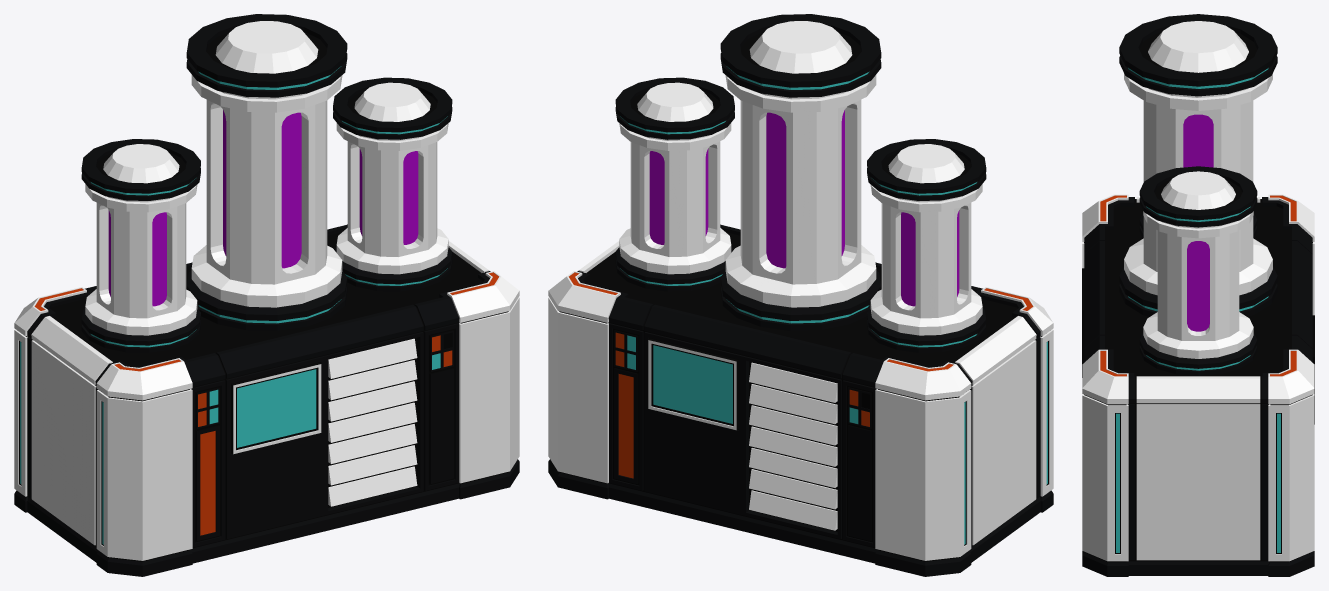
The model's file is SM_Fusion_T1.obj.
3 views of the same model, side by side, from view 1: azimuth 30°, elevation 25°; view 2: azimuth 150°, elevation 25°; view 3: azimuth 270°, elevation 25° (orthographic). The views are drawn at different scales.
Visible parts, largest first — view 1: SM_Fusion_T1; view 2: SM_Fusion_T1; view 3: SM_Fusion_T1.
Boxes of the visible parts, x1=… form: SM_Fusion_T1: x1=14, y1=14, x2=519, y2=576; SM_Fusion_T1: x1=548, y1=14, x2=1053, y2=576; SM_Fusion_T1: x1=1082, y1=14, x2=1314, y2=576.
Bounding box in the file's own units: 2 × 2.09 × 1.
